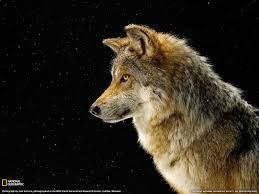Lobo: (86, 22, 254, 181)
